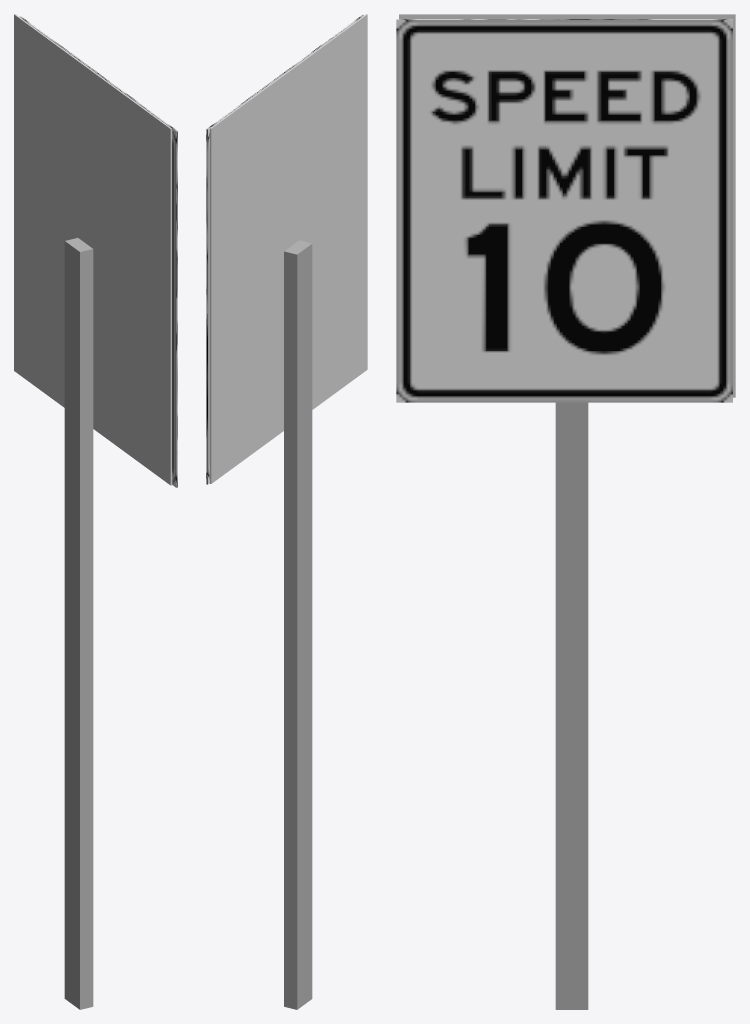
The model's file is speedlim_10.dae.
3 renders of one model, left to right at view 1: azimuth 30°, elevation 25°; view 2: azimuth 150°, elevation 25°; view 3: azimuth 270°, elevation 25°, orthographic. The views are drawn at different scales.
Parts seen in each view (by area): view 1: Cube_002, Cube_001, Cube; view 2: Cube_002, Cube_001, Cube; view 3: Cube, Cube_001, Cube_002.
Boxes of the visible parts, bbox=[...] form: Cube_002: bbox=[14, 14, 172, 485]; Cube_001: bbox=[64, 238, 93, 1009]; Cube: bbox=[20, 16, 177, 487]; Cube_002: bbox=[210, 14, 367, 483]; Cube_001: bbox=[284, 240, 312, 1009]; Cube: bbox=[206, 14, 363, 484]; Cube: bbox=[396, 19, 732, 402]; Cube_001: bbox=[555, 402, 588, 1009]; Cube_002: bbox=[399, 14, 735, 397].
Size of the model in its own units: 0.0799 by 0.9209 by 2.99.
